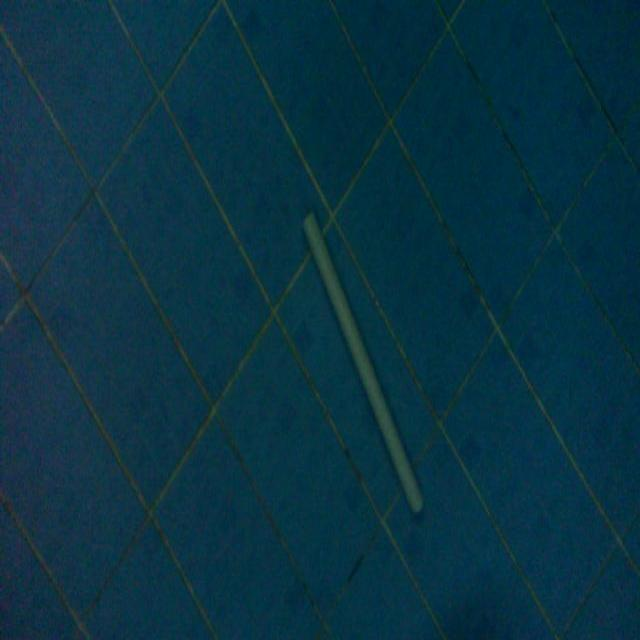Cube: (300, 205, 426, 518)
